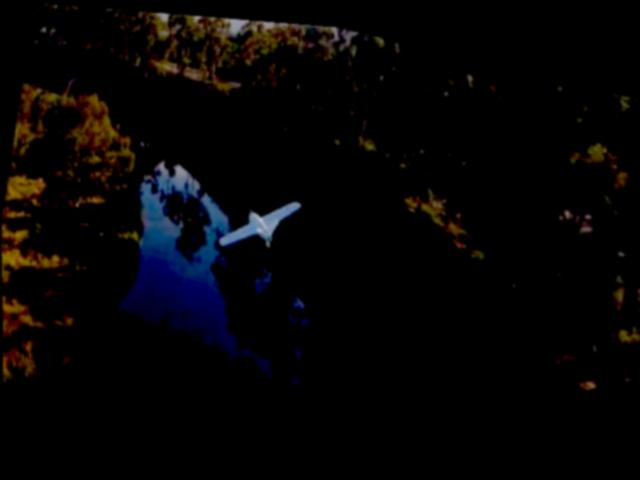iha: (218, 183, 301, 258)
